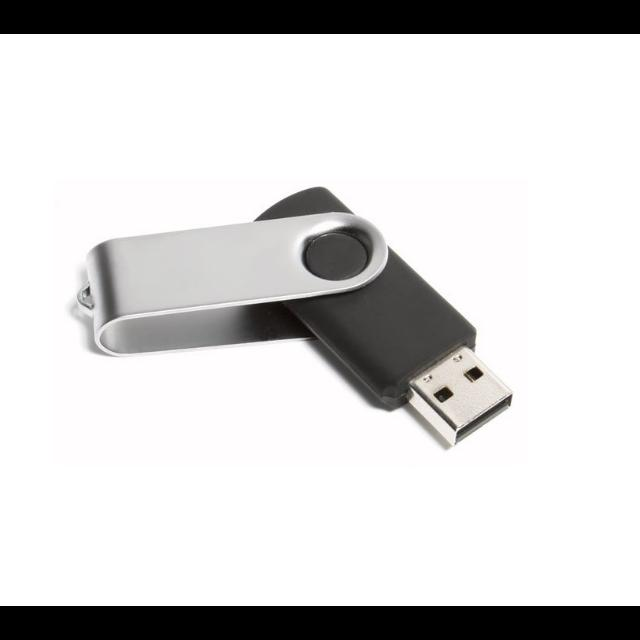USB-Flash-Drive: (70, 172, 522, 464)
